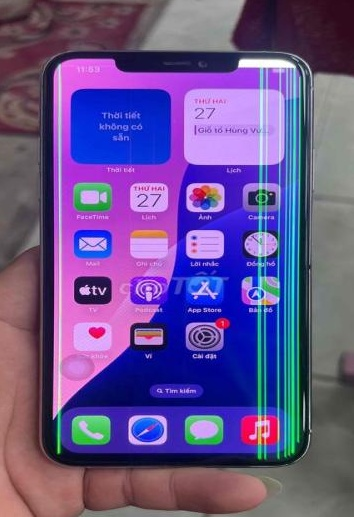screen_defect: (243, 153, 318, 190), (248, 245, 309, 290), (247, 397, 317, 434), (246, 360, 316, 395), (39, 201, 82, 256), (235, 122, 311, 153), (247, 210, 314, 245), (246, 320, 306, 358), (238, 47, 314, 77), (252, 435, 315, 465), (254, 62, 313, 92), (250, 93, 313, 120), (39, 357, 90, 390), (40, 291, 81, 330), (252, 189, 328, 210), (42, 256, 86, 291), (250, 293, 311, 318), (41, 417, 91, 445), (44, 136, 80, 170), (39, 390, 82, 417), (40, 171, 81, 198), (41, 331, 79, 360), (49, 96, 77, 135), (49, 63, 80, 97), (41, 441, 78, 458)
